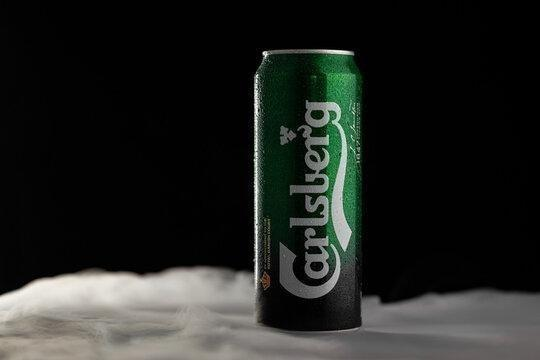tin can: (251, 46, 366, 336)
